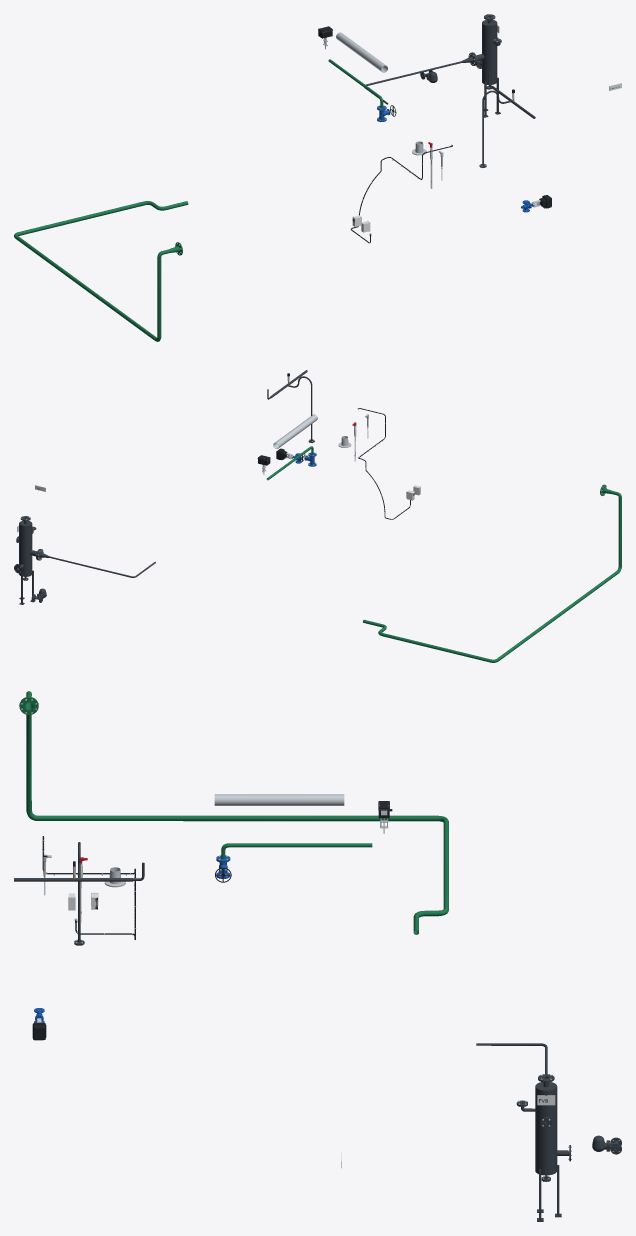
3 views of the same model, one above another, from view 1: azimuth 30°, elevation 25°; view 2: azimuth 150°, elevation 25°; view 3: azimuth 270°, elevation 25° (orthographic). The views are drawn at different scales.
Parts seen in each view (by area): view 1: deaerator_feed / green, separator_fv8 / dark, steam_delivery / steel, pressure_header / dark; view 2: deaerator_feed / green, separator_fv8 / dark; view 3: deaerator_feed / green, separator_fv8 / dark, steam_delivery / steel, pressure_header / dark, direct_inlet / green.
Part boxes in pixels (x1=…): deaerator_feed / green: x1=14, y1=201, x2=188, y2=341; separator_fv8 / dark: x1=472, y1=14, x2=501, y2=117; steam_delivery / steel: x1=336, y1=32, x2=387, y2=72; pressure_header / dark: x1=479, y1=72, x2=535, y2=167; deaerator_feed / green: x1=363, y1=484, x2=621, y2=662; separator_fv8 / dark: x1=14, y1=516, x2=40, y2=604; deaerator_feed / green: x1=19, y1=691, x2=448, y2=934; separator_fv8 / dark: x1=516, y1=1074, x2=570, y2=1221; steam_delivery / steel: x1=214, y1=794, x2=344, y2=805; pressure_header / dark: x1=14, y1=842, x2=144, y2=945; direct_inlet / green: x1=221, y1=843, x2=372, y2=858.
Bounding box in the file's own units: 9.48 × 2.95 × 6.08.
